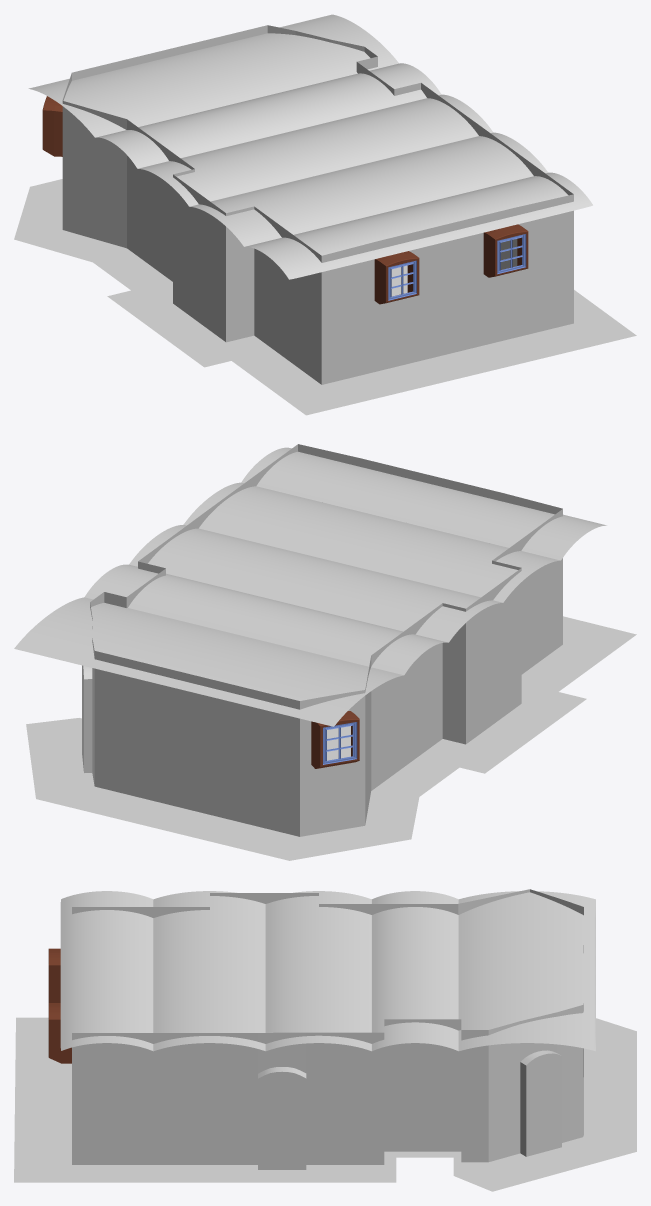
Rendered from Místnost č.2-proporce.fbx.
3 renders of one model, top to bottom at view 1: azimuth 30°, elevation 25°; view 2: azimuth 150°, elevation 25°; view 3: azimuth 270°, elevation 25°, orthographic. The views are drawn at different scales.
Visible parts, largest first — view 1: Klenby-strop, Plane.002, Podlaha-místnosti č.2, Plane.001, Jednostěna.001, Jednostěna.024, Jednostěna.002; view 2: Klenby-strop, Plane.001, Podlaha-místnosti č.2, Jednostěna.024, Plane.002, Jednostěna.001, Jednostěna.025, Jednostěna.003; view 3: Klenby-strop, Plane.002, Podlaha-místnosti č.2, Jednostěna.011, Jednostěna.013, Jednostěna.010, Jednostěna.003, Jednostěna.016, Jednostěna.015, Jednostěna.018, Plane.001, Jednostěna.024 (+1 smaller).
Boxes of the visible parts, x1,y1,x2,y2 form: Klenby-strop: (28,14,592,279); Plane.002: (254,128,573,384); Podlaha-místnosti č.2: (14,179,636,415); Plane.001: (42,25,267,248); Jednostěna.001: (173,174,225,341); Jednostěna.024: (127,119,194,281); Jednostěna.002: (226,206,254,342); Klenby-strop: (14,447,606,726); Plane.001: (94,651,371,836); Podlaha-místnosti č.2: (26,616,636,860); Jednostěna.024: (371,603,442,790); Plane.002: (202,444,562,674); Jednostěna.001: (466,568,521,743); Jednostěna.025: (442,603,465,744); Jednostěna.003: (82,626,92,772); Klenby-strop: (60,891,595,1051); Plane.002: (48,907,257,1164); Podlaha-místnosti č.2: (14,1017,636,1191); Jednostěna.011: (306,1032,384,1164); Jednostěna.013: (384,1019,461,1151); Jednostěna.010: (258,1032,306,1169); Jednostěna.003: (520,1012,561,1156); Jednostěna.016: (488,1021,520,1161); Jednostěna.015: (461,1030,488,1162); Jednostěna.018: (557,1005,583,1142); Plane.001: (458,889,583,1135); Jednostěna.024: (319,904,458,914).
Size of the model in its own units: 1725 by 554 by 2348.
